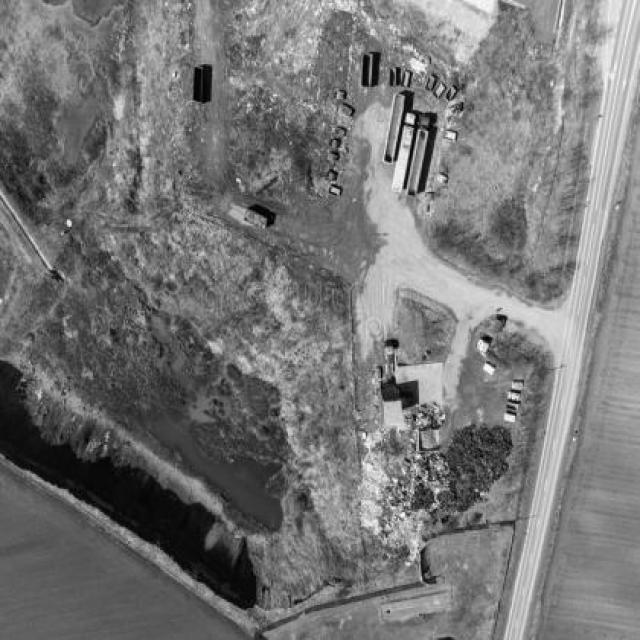tank: (244, 204, 268, 232)
